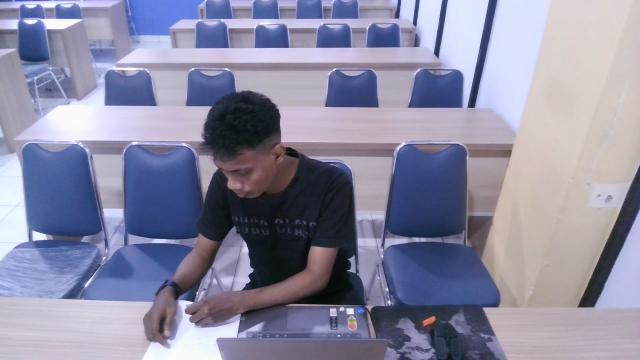Normal_Writing: (147, 83, 394, 360)
